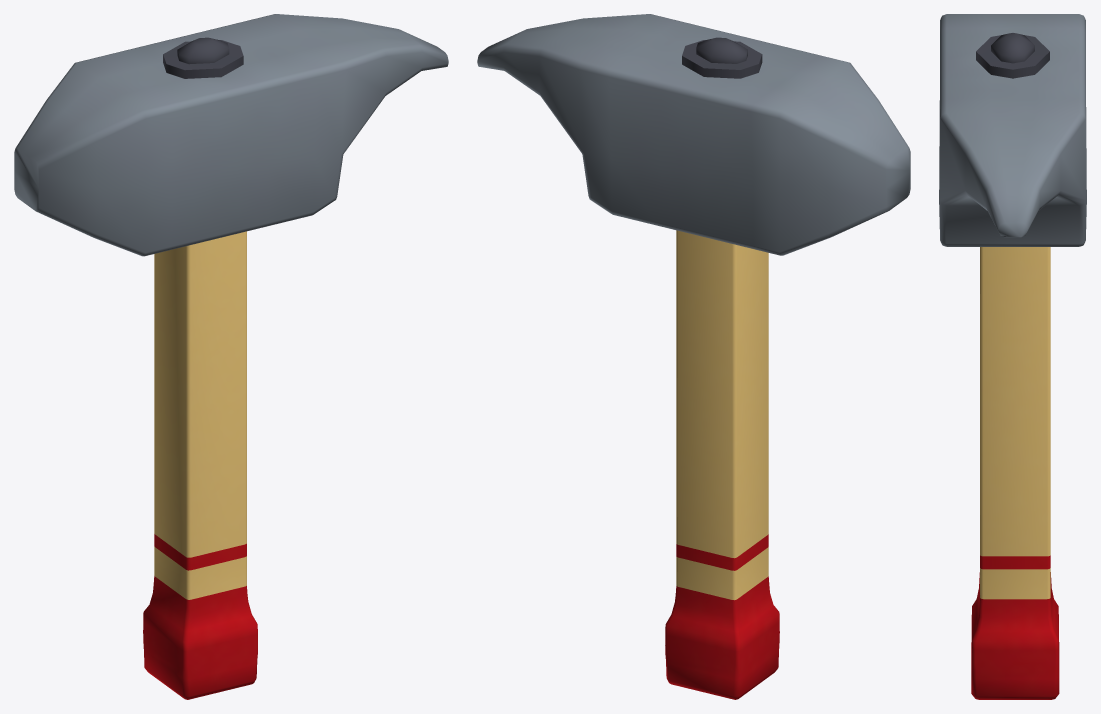
File: Hammer.fbx
3 renders of one model, left to right at view 1: azimuth 30°, elevation 25°; view 2: azimuth 150°, elevation 25°; view 3: azimuth 270°, elevation 25°, orthographic.
Parts seen in each view (by area): view 1: Hammer_Head, Hammer_Handle; view 2: Hammer_Head, Hammer_Handle; view 3: Hammer_Head, Hammer_Handle.
Part boxes in pixels (box(x1,y1,x2,y2)): Hammer_Head: box(14, 14, 448, 256); Hammer_Handle: box(143, 231, 257, 699); Hammer_Head: box(477, 14, 910, 255); Hammer_Handle: box(665, 230, 779, 699); Hammer_Head: box(939, 14, 1086, 246); Hammer_Handle: box(971, 247, 1059, 699).
Bounding box in the file's own units: 40.87 × 60.16 × 12.44.
